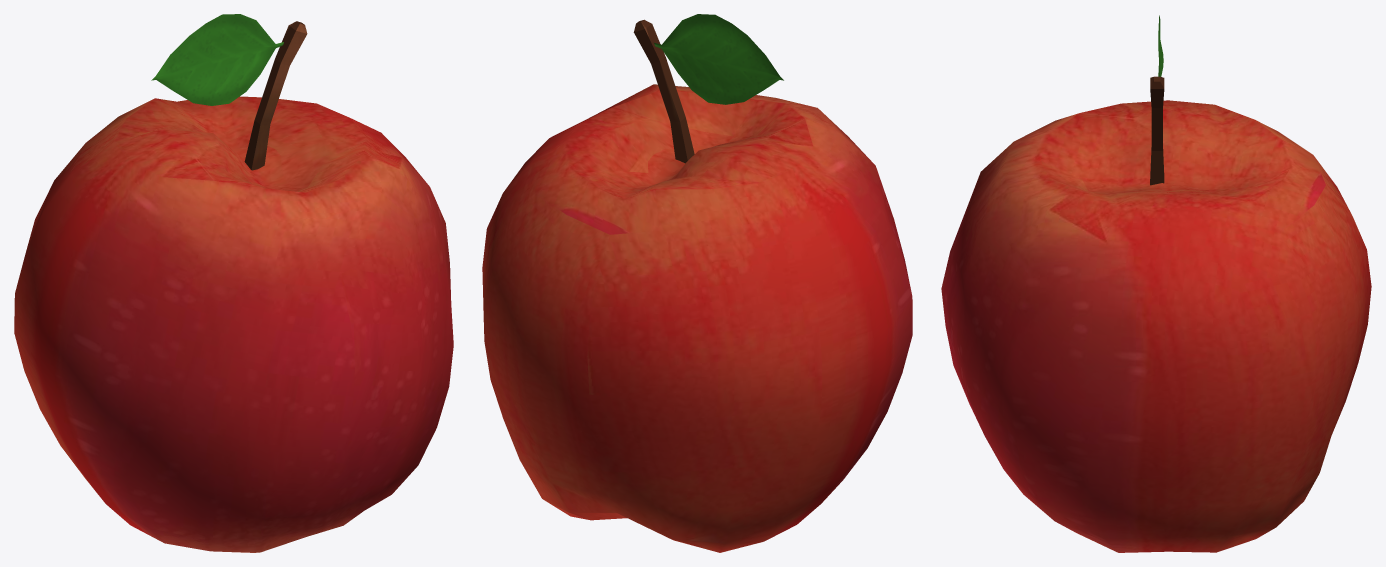
Rendered from Apple.fbx.
The picture shows the model from 3 angles, left to right: view 1: azimuth 30°, elevation 25°; view 2: azimuth 150°, elevation 25°; view 3: azimuth 270°, elevation 25°; orthographic projection. The views are drawn at different scales.
Visible parts, largest first — view 1: Apple; view 2: Apple; view 3: Apple.
Part boxes in pixels (<box>): Apple: <box>14,14,453,552</box>; Apple: <box>482,14,912,552</box>; Apple: <box>941,15,1371,552</box>.
Size of the model in its own units: 335 by 430 by 340.
3 materials, 3 textured.
